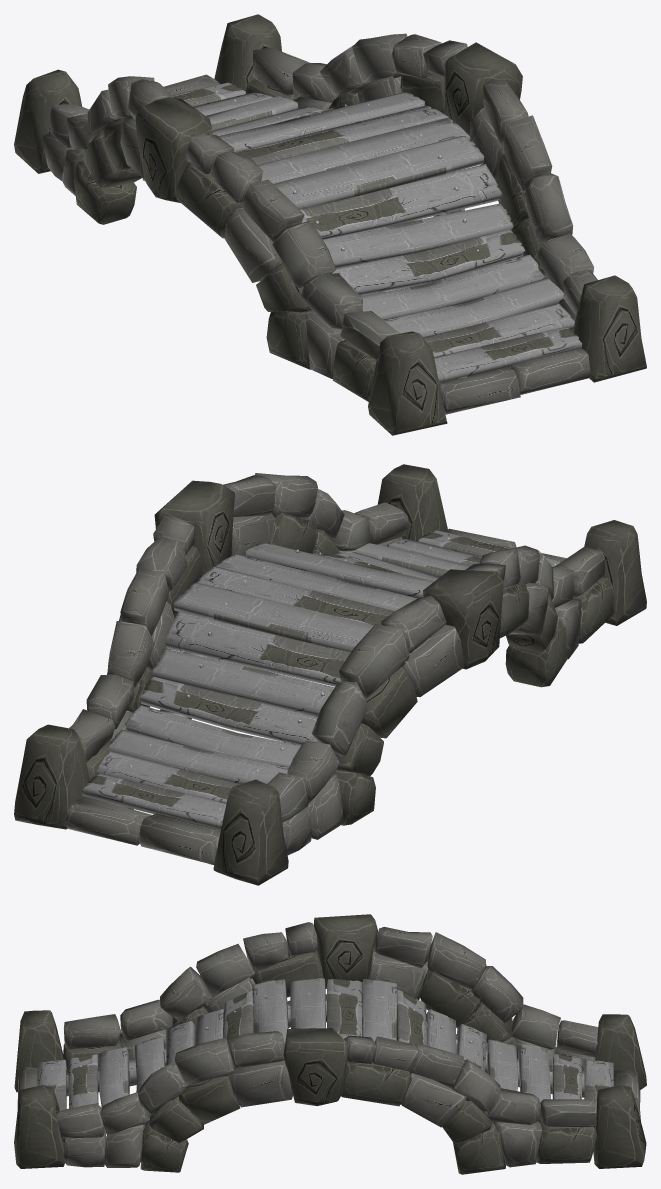
Rendered from bridge.fbx.
3 views of the same model, one above another, from view 1: azimuth 30°, elevation 25°; view 2: azimuth 150°, elevation 25°; view 3: azimuth 270°, elevation 25° (orthographic). The views are drawn at different scales.
Visible parts, largest first — view 1: start_prop_bridge_arch_a_mesh.2; view 2: start_prop_bridge_arch_a_mesh.2; view 3: start_prop_bridge_arch_a_mesh.2.
Boxes of the visible parts, bbox=[...] form: start_prop_bridge_arch_a_mesh.2: bbox=[14, 14, 646, 435]; start_prop_bridge_arch_a_mesh.2: bbox=[14, 464, 646, 885]; start_prop_bridge_arch_a_mesh.2: bbox=[14, 914, 646, 1174].
Bounding box in the file's own units: 318 × 164 × 639.
Materials: 1 (1 with a texture image).
